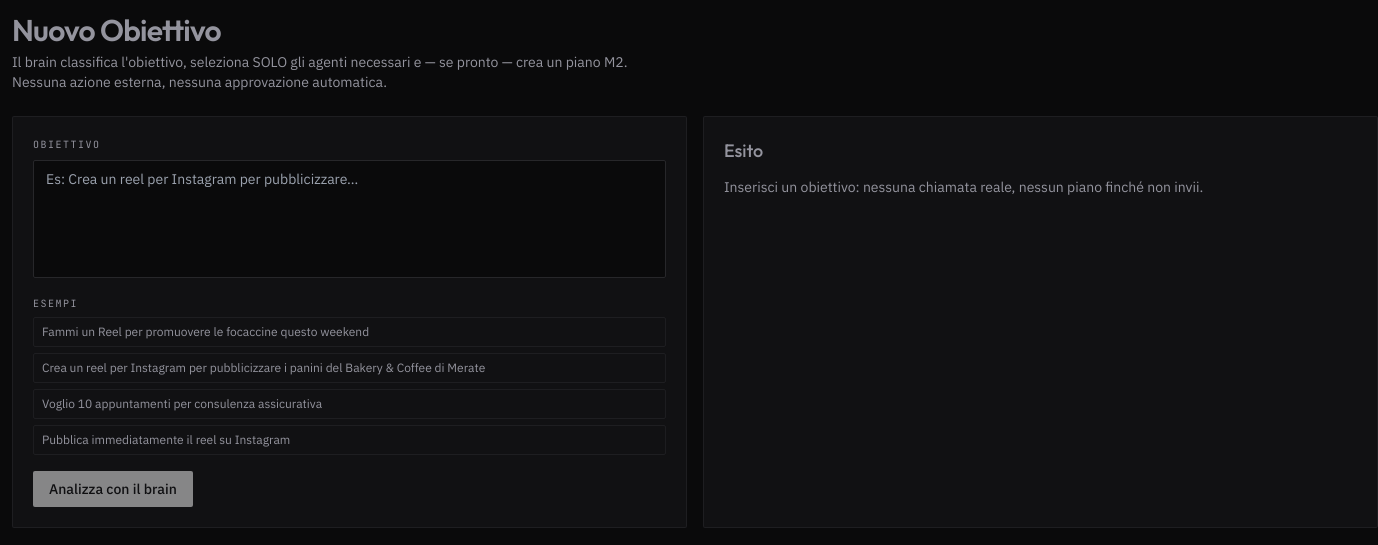
Test: NewGoal › gestisce la risposta NEEDS_CLARIFICATION e invia le risposte
Later steps or results of the test are not shown.
Step 1. Type "Lancia una campagna ads" into the text box with test id "goal-input" → coordinates (350, 219), box [33,160,666,278]
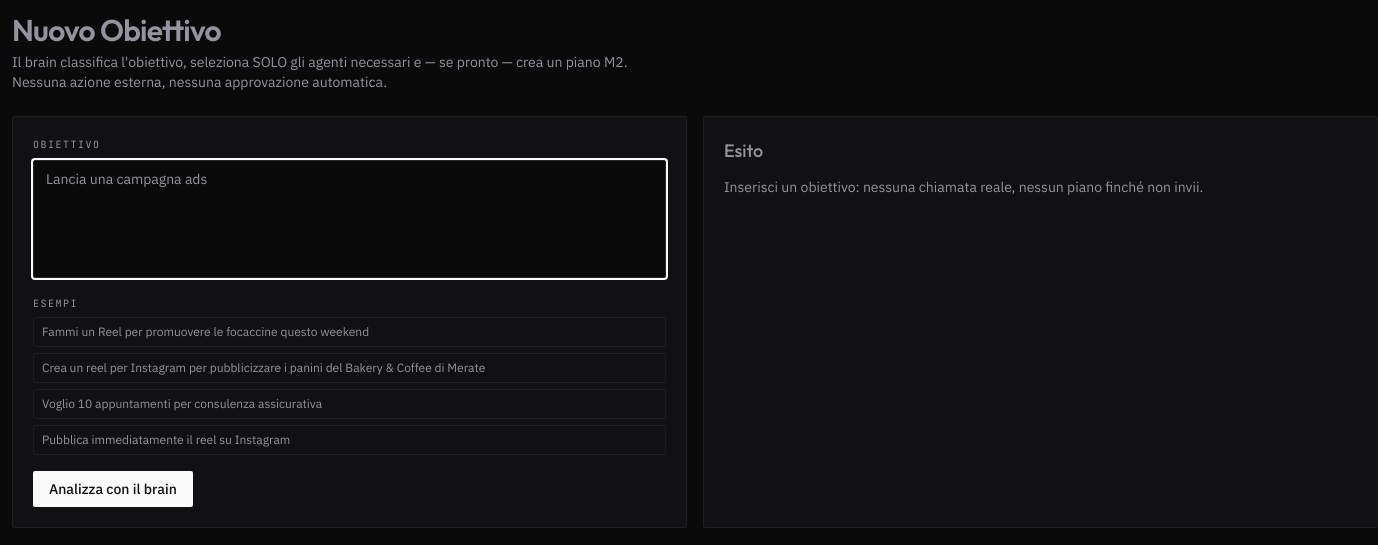
Step 2. Click the button with test id "goal-classify" → coordinates (113, 489), box [33,471,193,507]
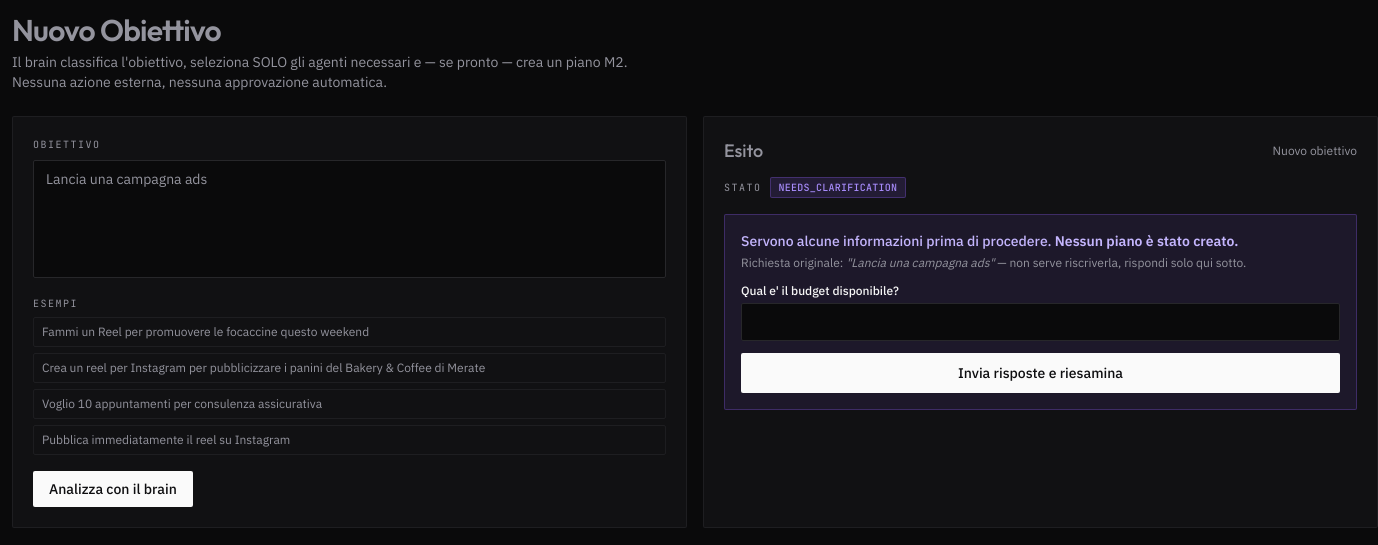
Expected: the element with test id "goal-clarify" is shown, [724,214,1357,410]
Expected: the element with test id "clarify-questions" reads "Qual e' il budget disponibile?", [741,283,899,298]
